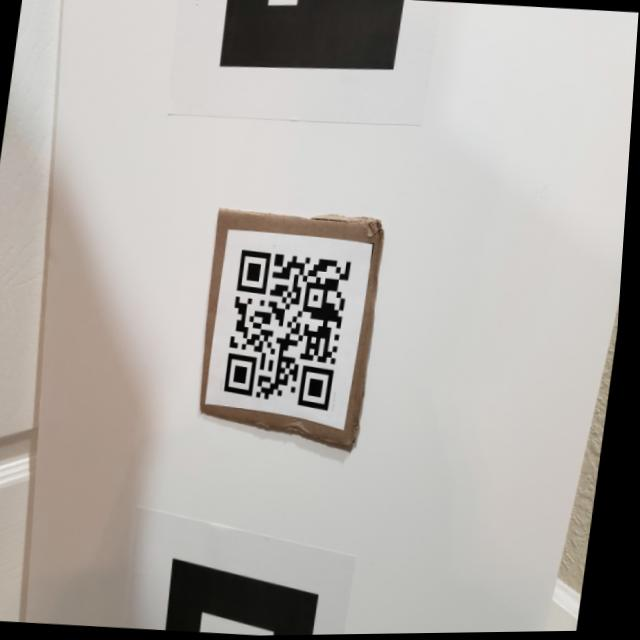QR_CODE: (217, 235, 363, 419)
